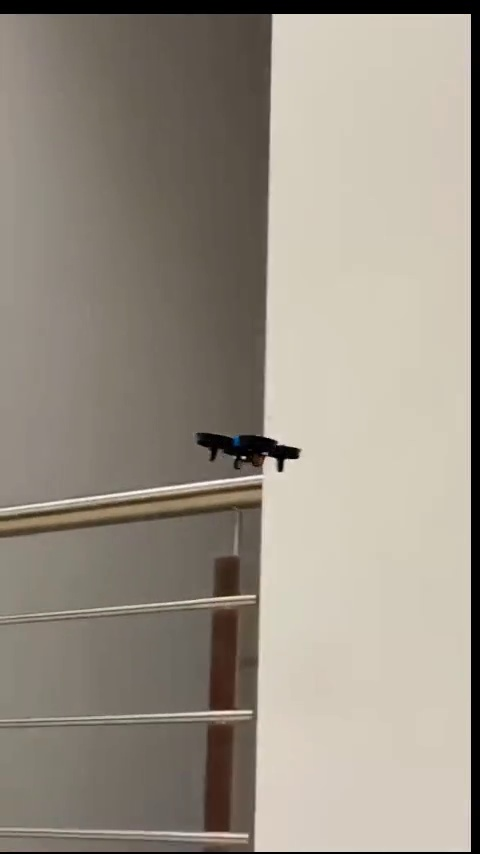drone: (199, 429, 299, 475)
